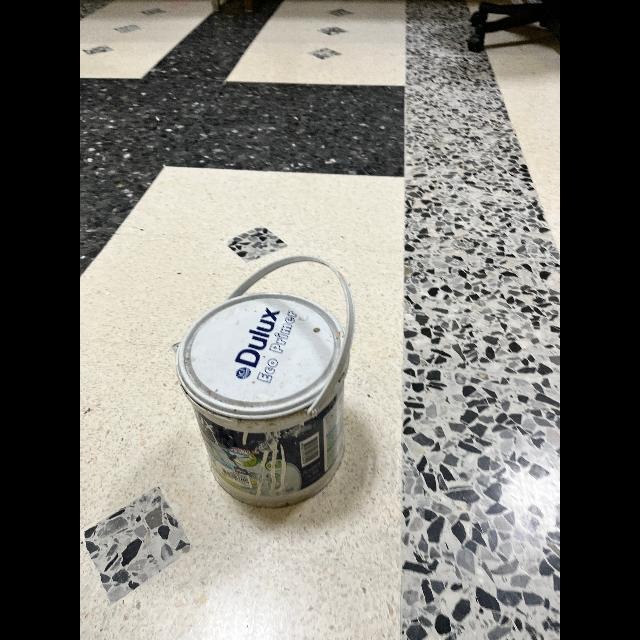paint_bucket: (168, 256, 380, 520)
